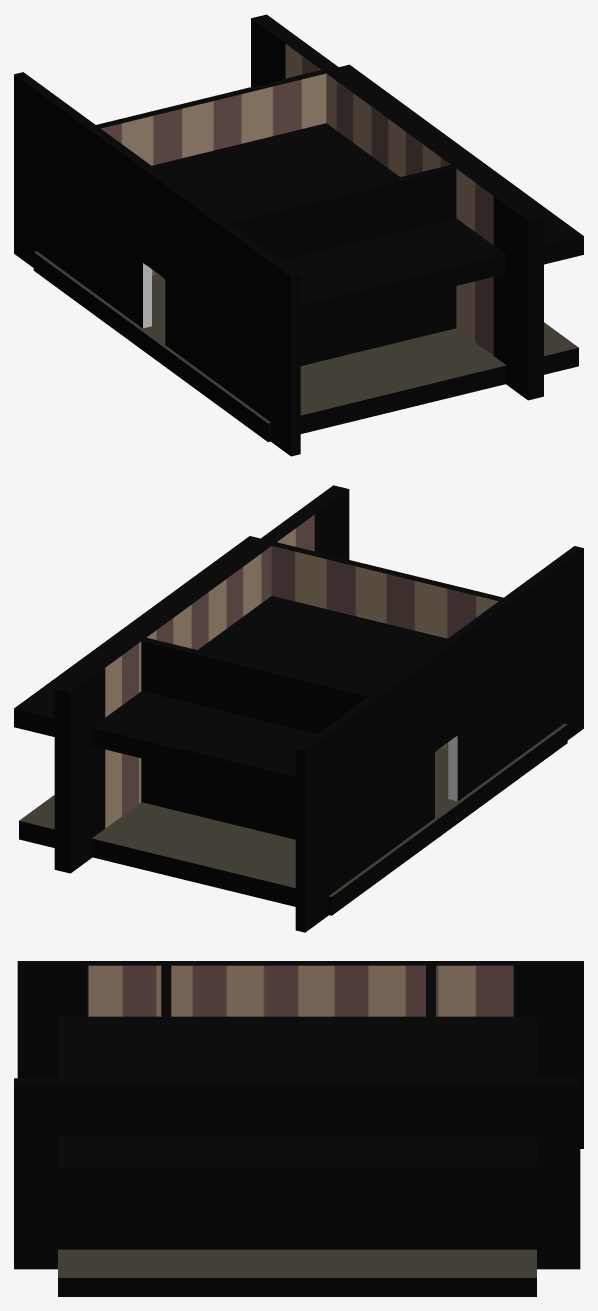
File: Room5.fbx
3 renders of one model, top to bottom at view 1: azimuth 30°, elevation 25°; view 2: azimuth 150°, elevation 25°; view 3: azimuth 270°, elevation 25°, orthographic. The views are drawn at different scales.
Parts seen in each view (by area): view 1: Room Material; view 2: Room Material, None.001; view 3: Room Material.
Part boxes in pixels (<box>): Room Material: <box>14,14,583,456</box>; Room Material: <box>14,485,583,932</box>; None.001: <box>448,736,457,801</box>; Room Material: <box>14,961,583,1296</box>.
Size of the model in its own units: 1795 by 974 by 2745.
Materials: 6 (6 with a texture image).
